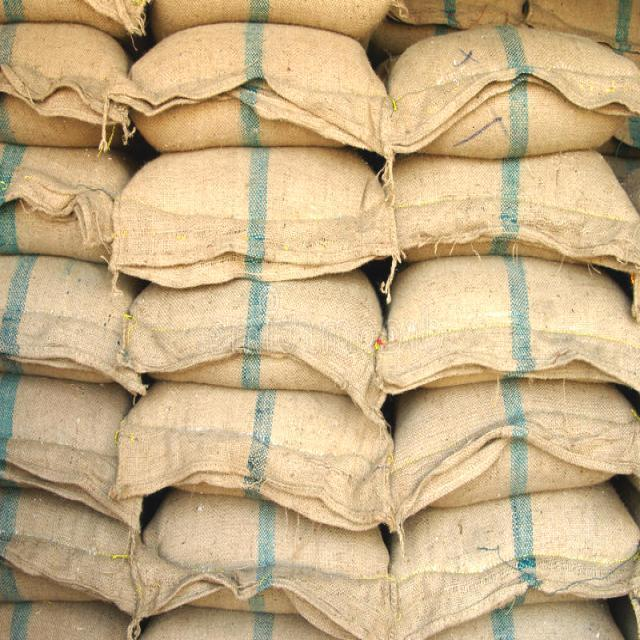gunny_bag: (114, 134, 406, 293), (123, 481, 400, 639), (121, 248, 386, 406), (387, 480, 638, 639), (376, 256, 638, 404), (387, 372, 638, 526), (108, 377, 395, 511), (380, 24, 634, 175), (134, 24, 394, 159), (393, 141, 634, 282), (1, 370, 166, 526), (1, 248, 145, 388), (0, 130, 142, 266), (0, 17, 136, 158), (1, 499, 148, 627)
